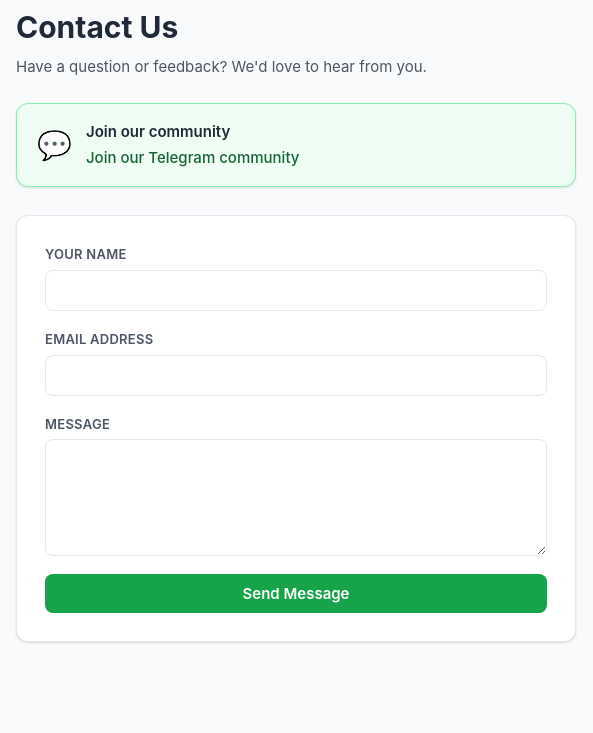
it: ContactPage › shows validation errors for empty/invalid fields
Click the button "Send Message": x=296, y=594 left=45, top=574, right=547, bottom=614
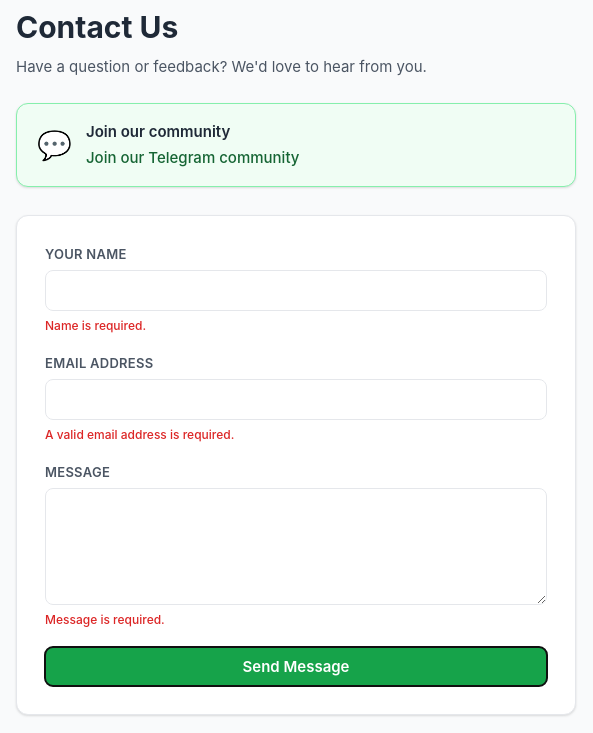
Expected: the text "Name is required." is shown, left=45, top=318, right=146, bottom=333
Expected: the text "A valid email address is required." is shown, left=45, top=427, right=234, bottom=442
Expected: the text "Message is required." is shown, left=45, top=612, right=165, bottom=627
